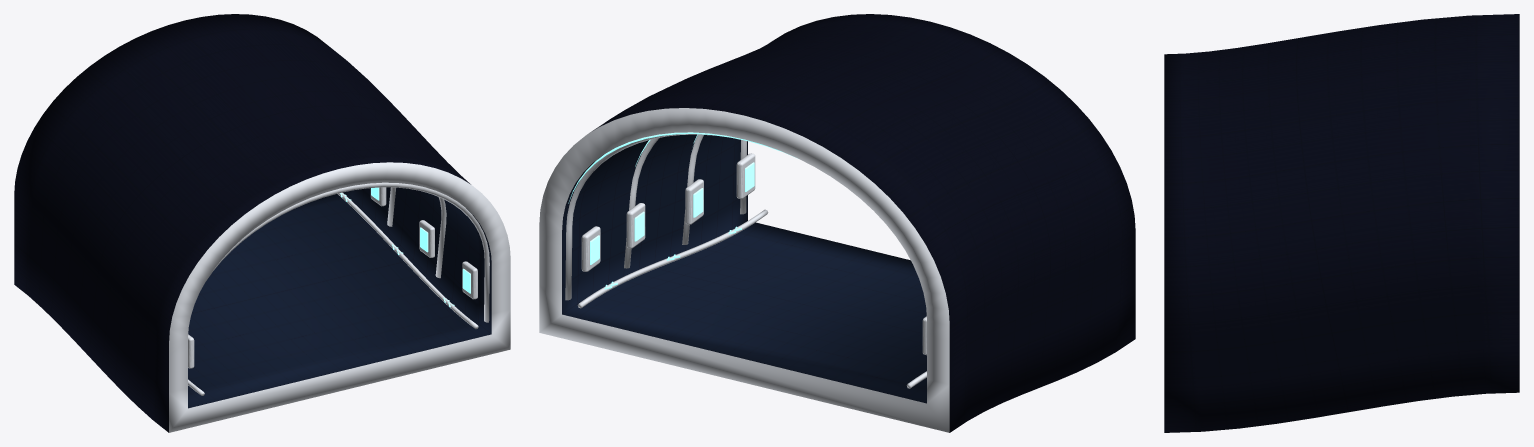
Rendered from grade_up.glb.
3 views of the same model, side by side, from view 1: azimuth 30°, elevation 25°; view 2: azimuth 150°, elevation 25°; view 3: azimuth 270°, elevation 25° (orthographic). The views are drawn at different scales.
Parts seen in each view (by area): view 1: TunnelGeometry; view 2: TunnelGeometry; view 3: TunnelGeometry.
Part boxes in pixels (left/top/right/bottom): TunnelGeometry: left=14, top=14, right=510, bottom=432; TunnelGeometry: left=539, top=14, right=1135, bottom=432; TunnelGeometry: left=1164, top=14, right=1519, bottom=432.
Size of the model in its own units: 15.3 by 11.02 by 12.
Materials: 4 (2 with a texture image).
